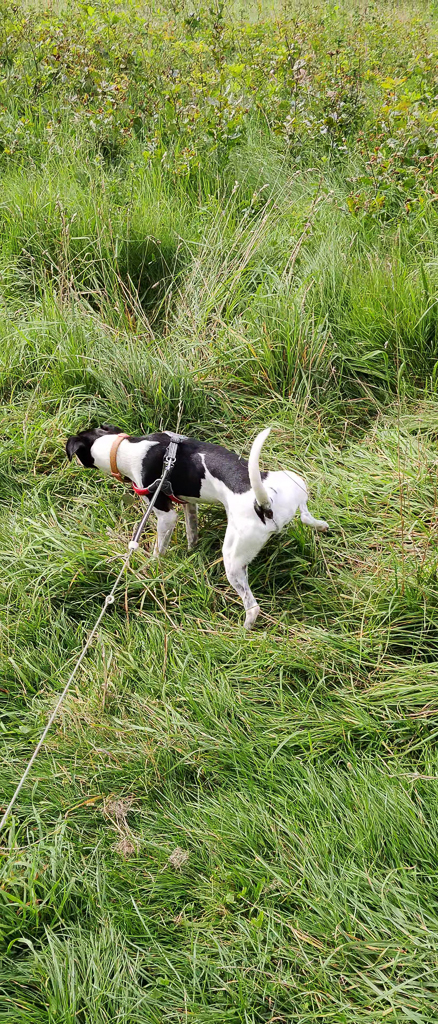Dog: (56, 403, 342, 638)
